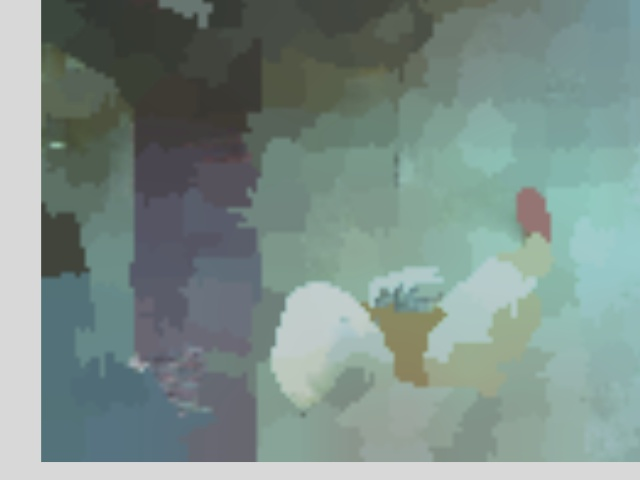two: (295, 400, 342, 418)
